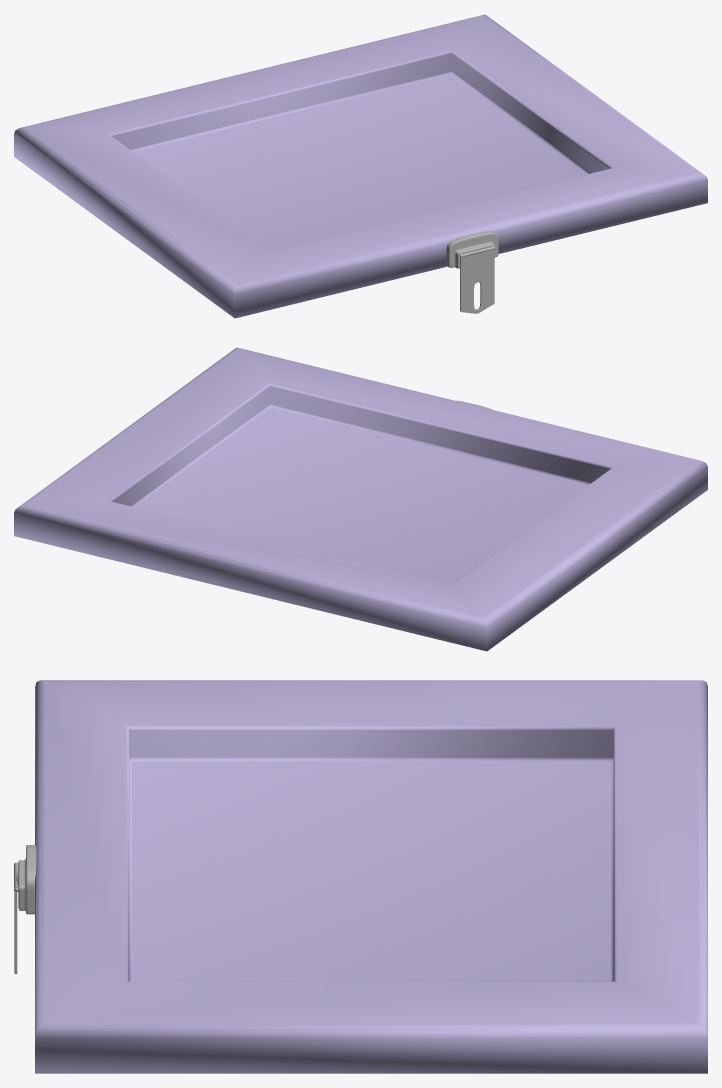
File: toybox_t.fbx
3 views of the same model, one above another, from view 1: azimuth 30°, elevation 25°; view 2: azimuth 150°, elevation 25°; view 3: azimuth 270°, elevation 25° (orthographic). The views are drawn at different scales.
Parts seen in each view (by area): view 1: Cube.041, Cylinder.006; view 2: Cube.041; view 3: Cube.041, Cylinder.006.
Part boxes in pixels (box(x1,y1,x2,y2)): Cube.041: box(14, 14, 707, 318); Cylinder.006: box(446, 231, 498, 313); Cube.041: box(14, 347, 707, 651); Cube.041: box(35, 680, 707, 1073); Cylinder.006: box(14, 845, 36, 973).
Size of the model in its own units: 914 by 144 by 762.
